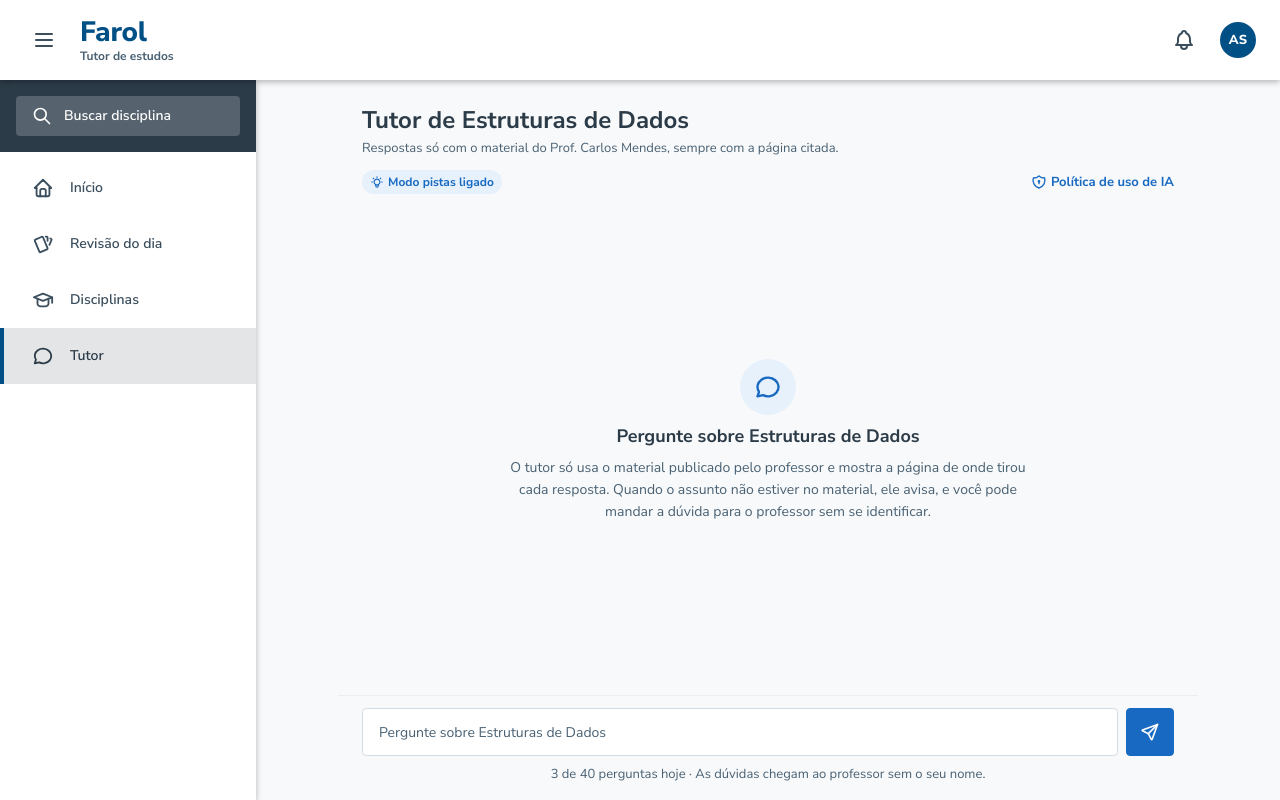
Test: tela do tutor (TUT-T24) › envia a pergunta e mostra a resposta em streaming, com a citação e o uso atualizado
Type "O que é uma pilha?" into the field named "Sua pergunta". click: [740, 732]
box: x1=362 y1=708 x2=1118 y2=756
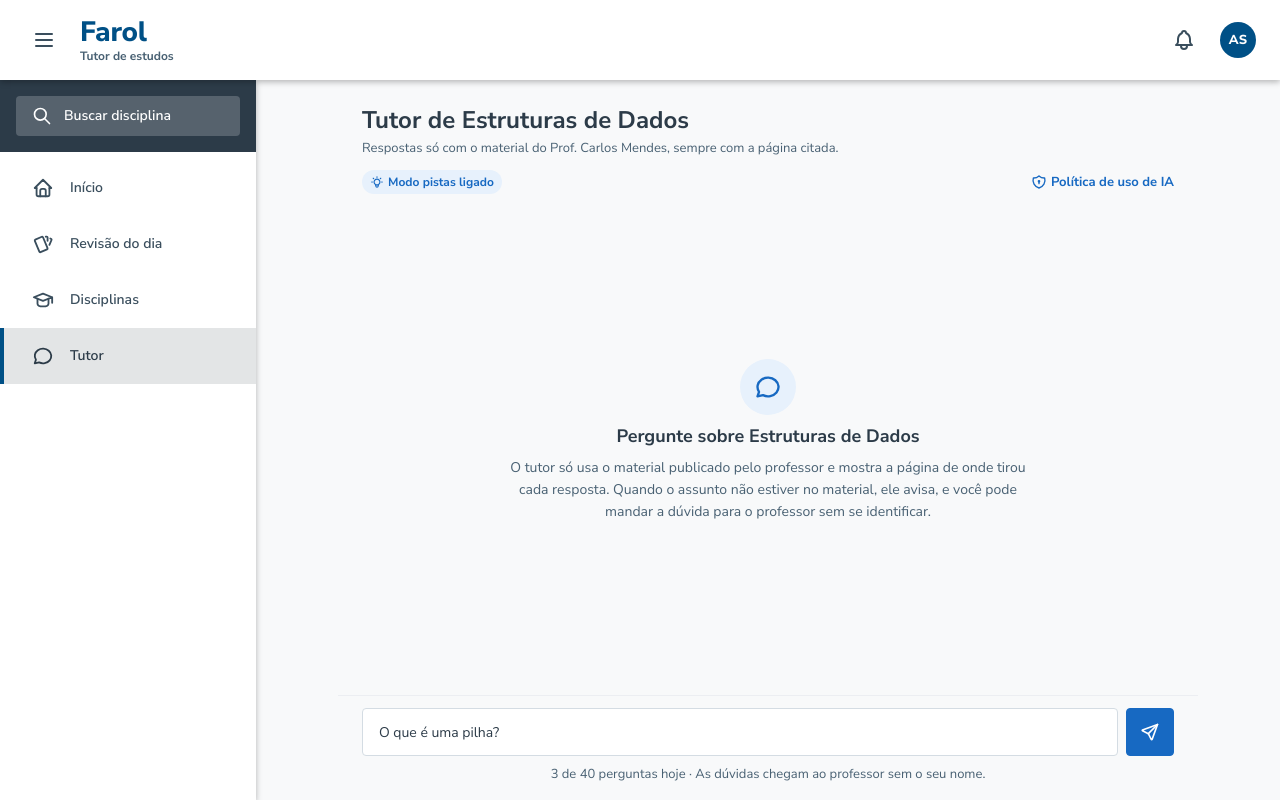
Click the button named "Enviar pergunta". click: [1150, 732]
box: x1=1126 y1=708 x2=1174 y2=756
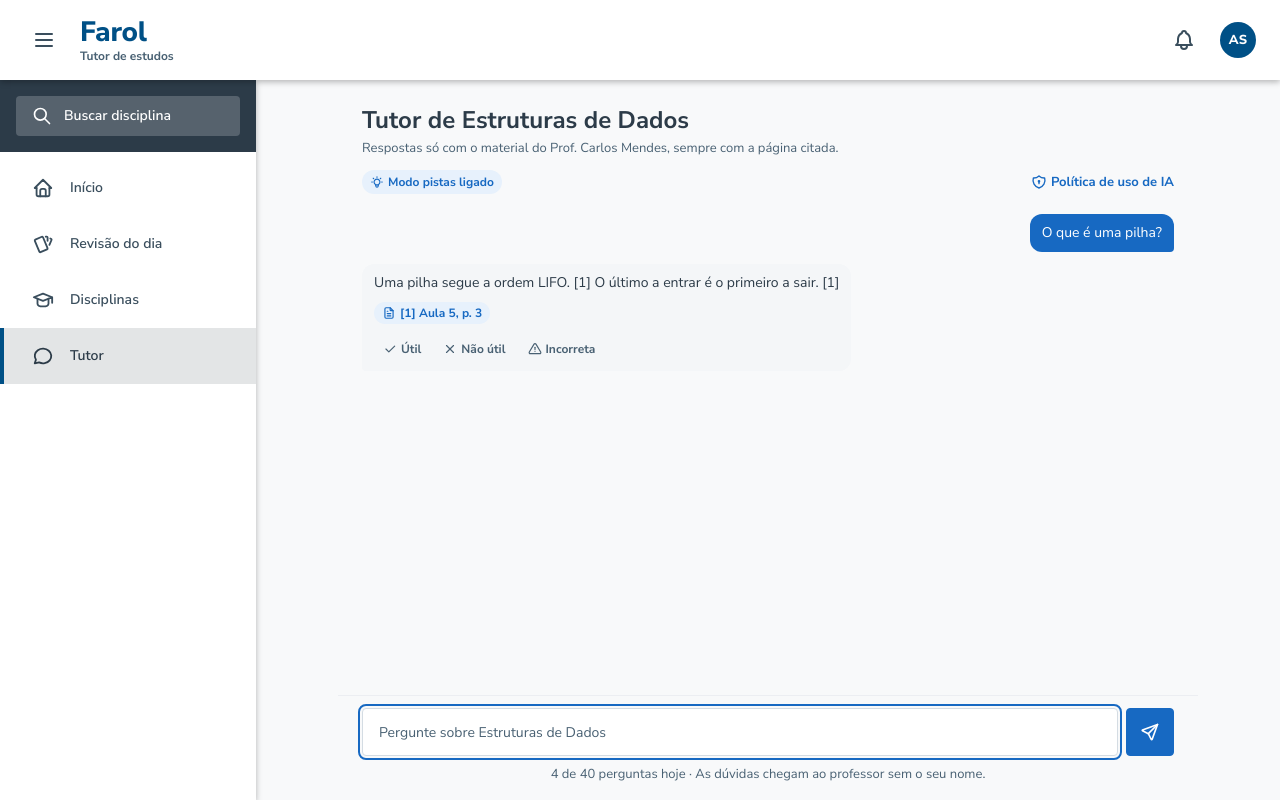
Check: the text "O último a entrar" is shown, box x1=374 y1=273 x2=839 y2=292
Check: the text "O que é uma pilha?" is shown, box x1=1042 y1=222 x2=1162 y2=244
Check: the text "4 de 40 perguntas hoje" is shown, box x1=551 y1=765 x2=686 y2=783
